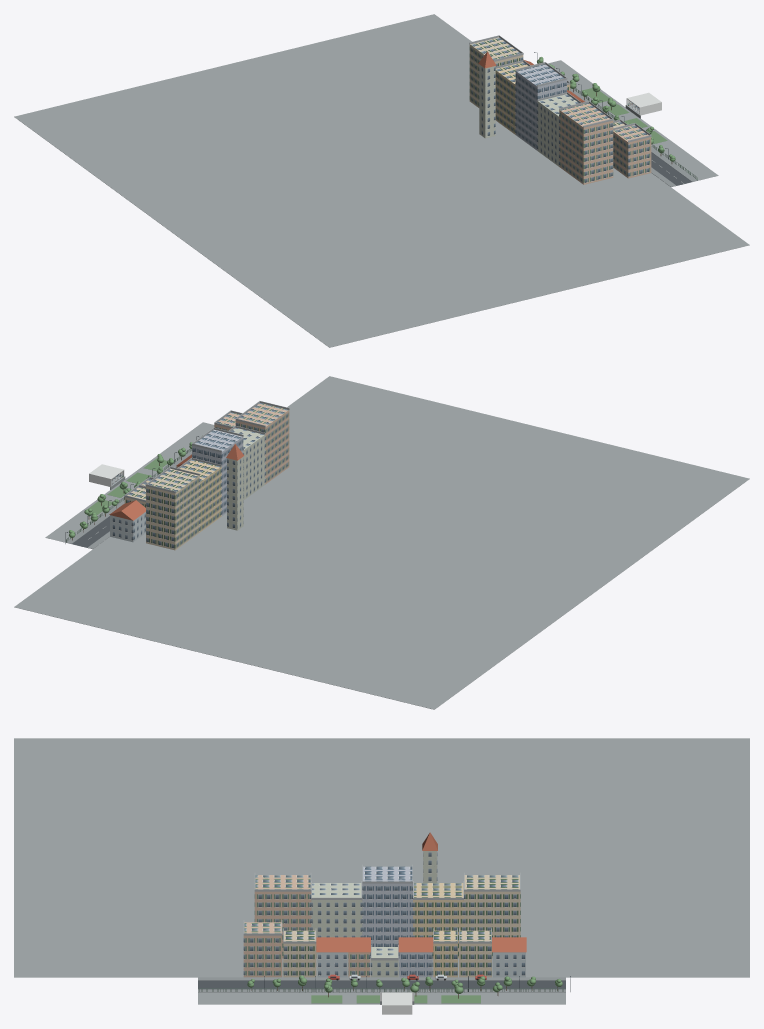
Rendered from aula.glb.
The picture shows the model from 3 angles, top to bottom: view 1: azimuth 30°, elevation 25°; view 2: azimuth 150°, elevation 25°; view 3: azimuth 270°, elevation 25°; orthographic projection. The views are drawn at different scales.
Parts seen in each view (by area): view 1: Ground, House20, House22, Yard, House8, House21, House24, House23, BellTower, TreeCanopies, Lawn; view 2: Ground, House24, House20, Yard, House23, House22, House21, BellTower, House7, TreeCanopies, Lawn; view 3: Ground, House22, Yard, House24, House20, Road, House21, Pavements, House23, House8, House0, House6 (+14 smaller).
Boxes of the visible parts, x1,y1,x2,y2 form: Ground: [14, 14, 749, 347]; House20: [559, 103, 613, 184]; House22: [515, 64, 566, 150]; Yard: [548, 60, 718, 180]; House8: [613, 125, 651, 178]; House21: [537, 94, 578, 166]; House24: [469, 37, 523, 107]; House23: [495, 62, 527, 134]; BellTower: [479, 64, 495, 138]; TreeCanopies: [537, 57, 675, 161]; Lawn: [581, 88, 667, 143]; Ground: [14, 376, 749, 709]; House24: [146, 468, 199, 550]; House20: [235, 403, 289, 484]; Yard: [45, 422, 214, 542]; House23: [180, 459, 221, 532]; House22: [192, 429, 243, 515]; House21: [231, 428, 265, 499]; BellTower: [227, 456, 243, 530]; House7: [110, 512, 145, 542]; TreeCanopies: [69, 435, 202, 537]; Lawn: [87, 458, 167, 514]; Ground: [14, 738, 749, 977]; House22: [362, 866, 412, 958]; Yard: [198, 992, 565, 1004]; House24: [464, 875, 520, 958]; House20: [254, 875, 311, 958]; Road: [198, 980, 565, 989]; House21: [311, 883, 362, 958]; Pavements: [198, 977, 565, 992]; House23: [413, 883, 463, 958]; House8: [243, 922, 282, 977]; House0: [283, 930, 316, 977]; House6: [459, 930, 491, 977].
Bounding box in the file's own units: 233 × 38.11 × 260.
Materials: 119 (7 with a texture image).
